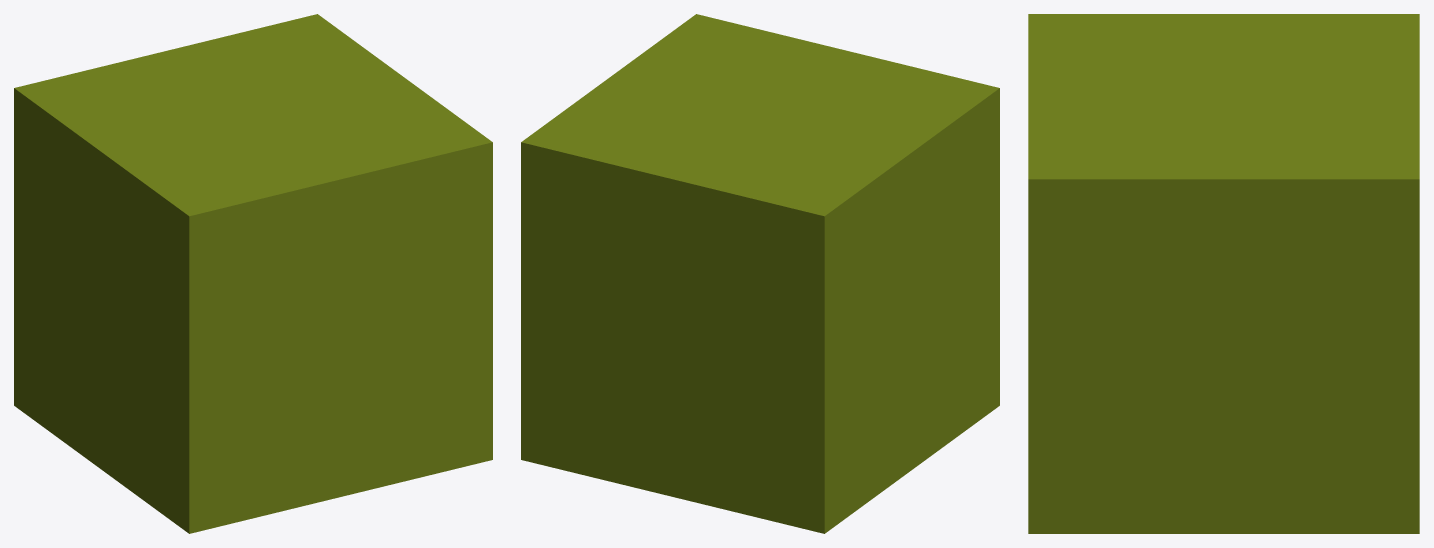
Rendered from Grass_Full.glb.
3 views of the same model, side by side, from view 1: azimuth 30°, elevation 25°; view 2: azimuth 150°, elevation 25°; view 3: azimuth 270°, elevation 25° (orthographic). The views are drawn at different scales.
Visible parts, largest first — view 1: Grass_Full_body; view 2: Grass_Full_body; view 3: Grass_Full_body.
Boxes of the visible parts, x1,y1,x2,y2 form: Grass_Full_body: [14, 14, 492, 533]; Grass_Full_body: [521, 14, 999, 533]; Grass_Full_body: [1028, 14, 1419, 533].
Bounding box in the file's own units: 1 × 1 × 1.
Materials: 1 (1 with a texture image).
